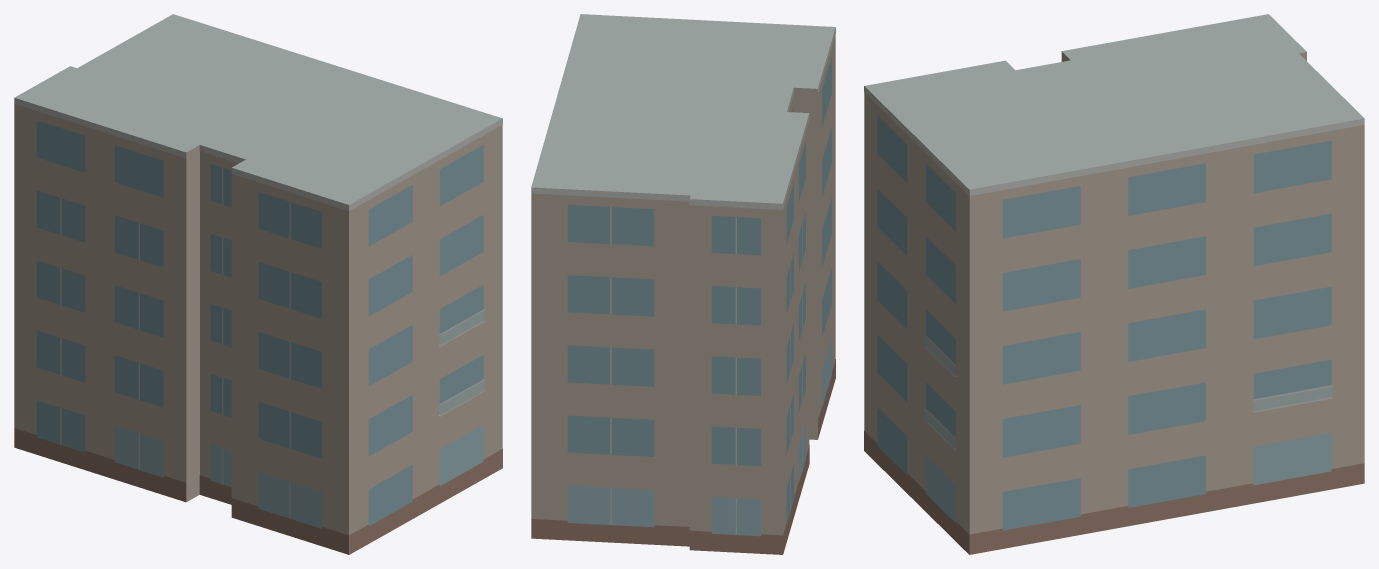
The model's file is survey-upis-32984854.glb.
3 views of the same model, side by side, from view 1: azimuth 30°, elevation 25°; view 2: azimuth 150°, elevation 25°; view 3: azimuth 270°, elevation 25° (orthographic). The views are drawn at different scales.
Visible parts, largest first — view 1: survey-upis-32984854.tmp; view 2: survey-upis-32984854.tmp; view 3: survey-upis-32984854.tmp.
Part boxes in pixels (x1=…): survey-upis-32984854.tmp: x1=14, y1=14, x2=502, y2=554; survey-upis-32984854.tmp: x1=531, y1=14, x2=835, y2=554; survey-upis-32984854.tmp: x1=864, y1=14, x2=1364, y2=554.
Size of the model in its own units: 14.36 by 13.9 by 17.28.
